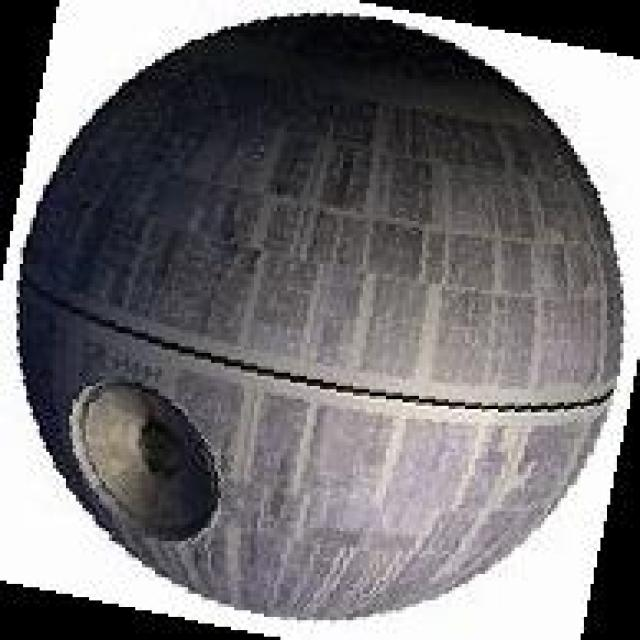Death Star: (21, 9, 612, 636)
